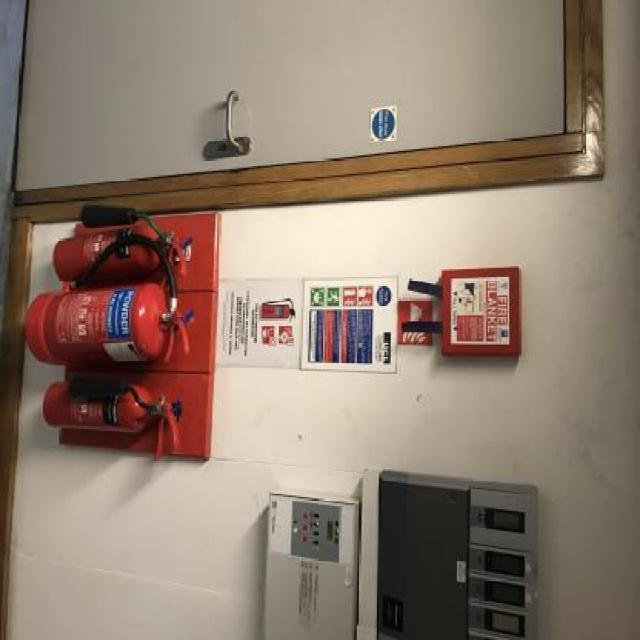fire extinguisher: (25, 290, 187, 362), (59, 220, 183, 285), (43, 385, 172, 439)
